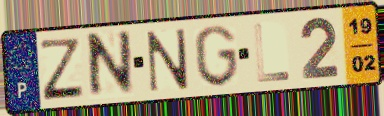2: (299, 15, 342, 83)
G: (192, 23, 241, 89)
L: (252, 21, 293, 85)
N: (87, 28, 135, 103), (145, 27, 191, 95)
Z: (38, 37, 86, 103)
